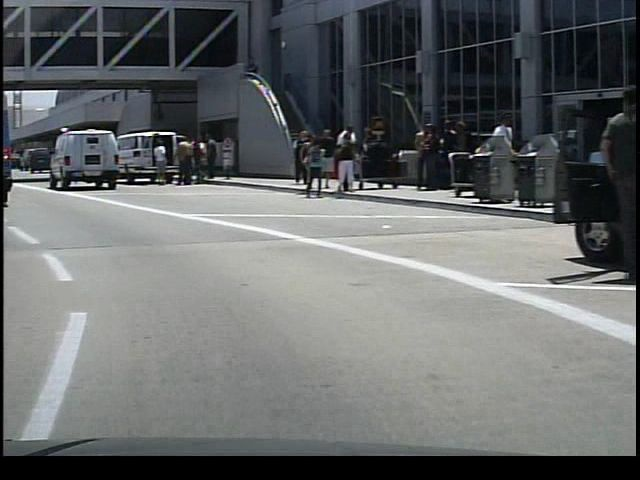person: (478, 107, 513, 204), (331, 122, 358, 193), (330, 136, 353, 195), (194, 132, 216, 180), (170, 136, 190, 188), (147, 134, 166, 187)
